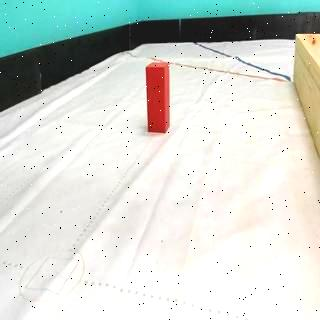redbox: (146, 61, 170, 132)
